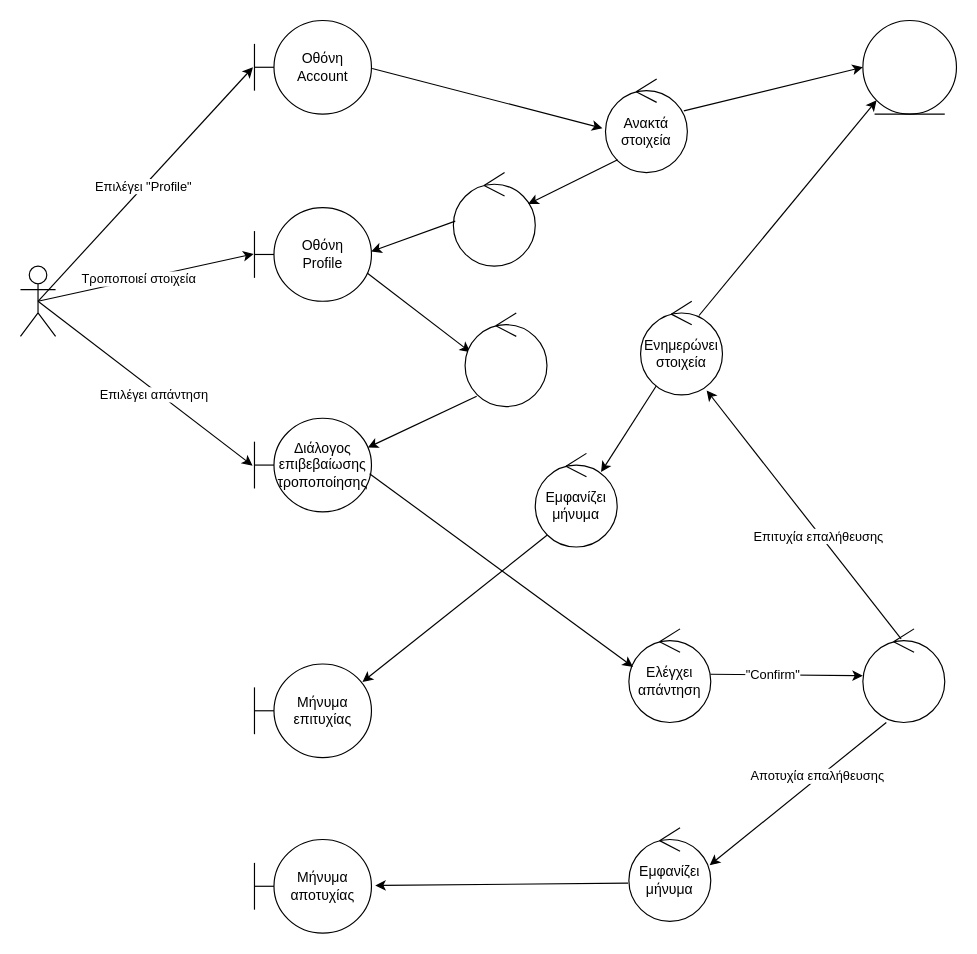
The diagram is 977 pixels wide and 954 high, and some of its shapes have lost their labels. Here are the shapes that lost their labels. From the top down, the centre of each, then its label:
point 909,66: Στοιχεία προφίλ
point 493,218: Εμφανίζει στοιχεία
point 37,300: User
point 505,359: Εμφανίζει διάλογο
point 903,675: Επαληθεύει στοιχεία
